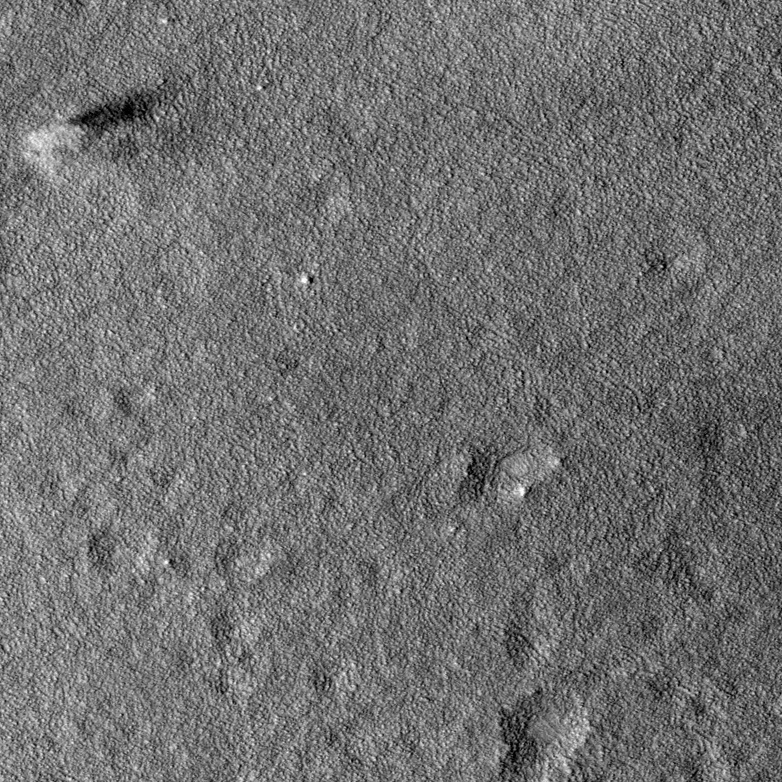dust_devil: (21, 82, 167, 177)
